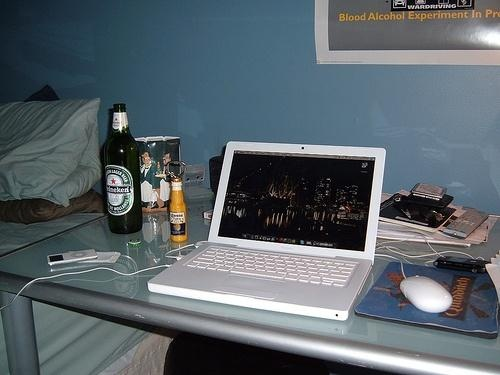bottle: (104, 103, 144, 234), (167, 176, 189, 243)
